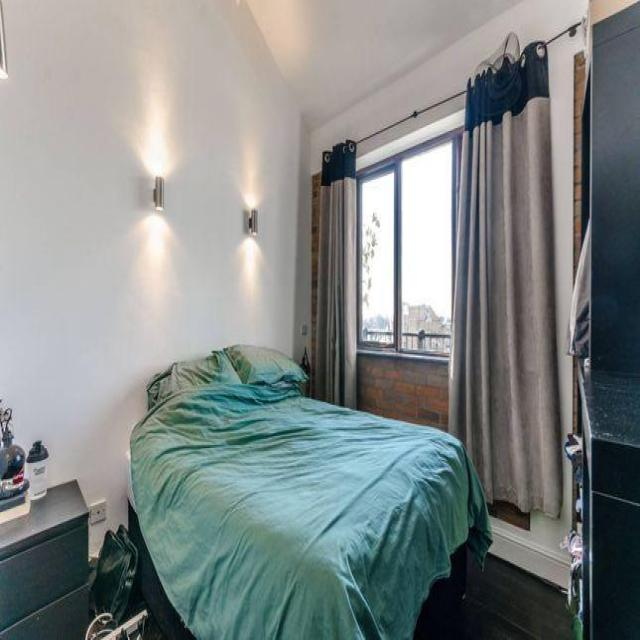Wall: (0, 137, 294, 552), (0, 1, 301, 222), (310, 0, 588, 172), (247, 0, 518, 127), (547, 28, 586, 434), (455, 552, 574, 638), (494, 465, 570, 584), (165, 129, 237, 235), (490, 512, 570, 588)
